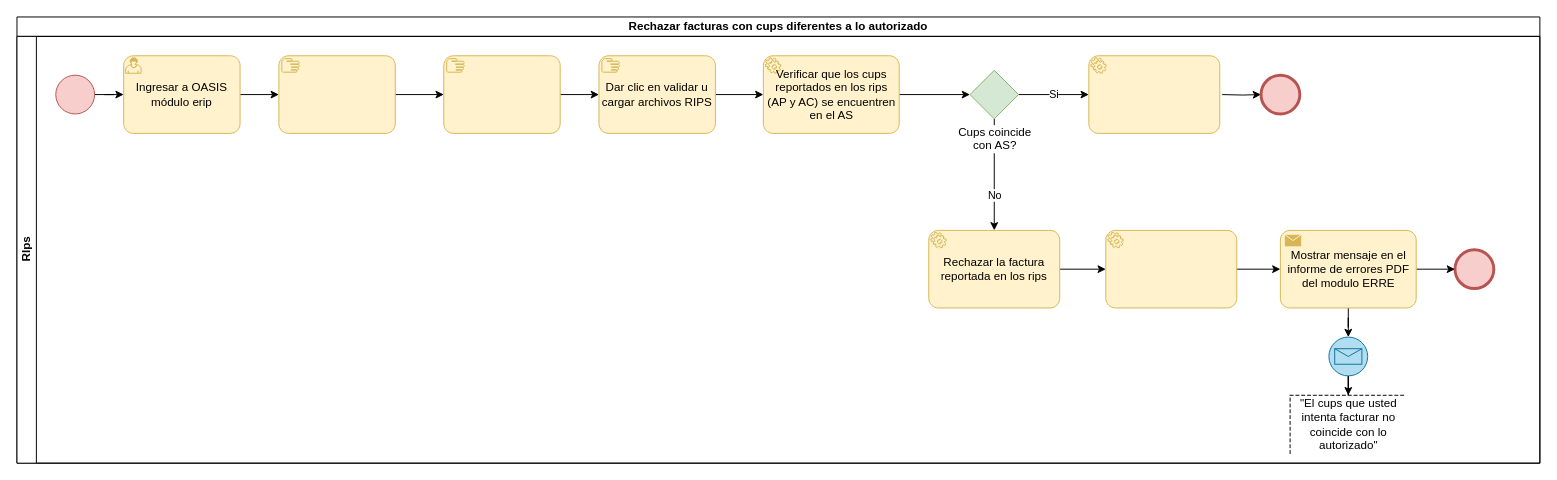
This 1557x480 diagram has some shape labels left out. Here are the shapes that lost their labels. From the top down, the box of each, then its label:
(278, 55, 395, 133): Escoger proceso " PRIMERA VEZ"
(443, 55, 560, 133): Seleccionar modalidad PBS y Servicio " Ambulatorio"
(1088, 55, 1220, 133): Continuar con el flujo normal de validaciones de los rips
(1105, 229, 1237, 308): Cargar error del proceso de validación de cups
